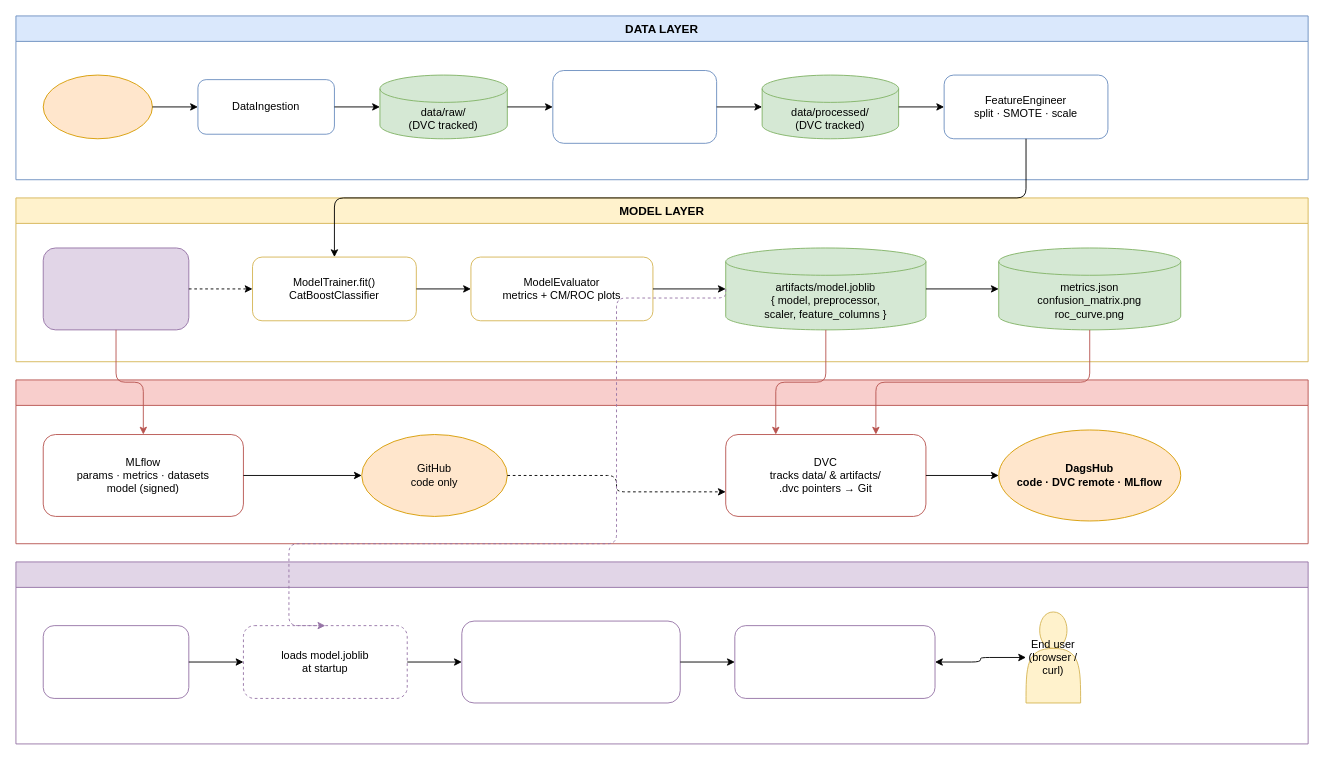
This 1324x760 diagram has some shape labels left out. Each missing label, with the box of its shape:
DataPreprocessing impute / clip / de-skew encode: (552, 70, 717, 143)
FastAPI src/app.py: (42, 625, 189, 698)
Kaggle (kagglehub): (42, 74, 152, 139)
preprocessor.transform() scaler.transform() model.predict_proba(): (461, 620, 680, 703)
SERVING LAYER: (15, 561, 1308, 744)
src/main.py orchestrator (inline MLflow): (42, 247, 189, 330)
TRACKING & VERSIONING: (15, 379, 1308, 544)
Web UI index.html + style.css + app.js: (734, 625, 935, 698)
